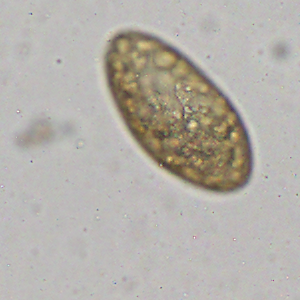Fasciola_hepatica_egg: (104, 26, 254, 193)
